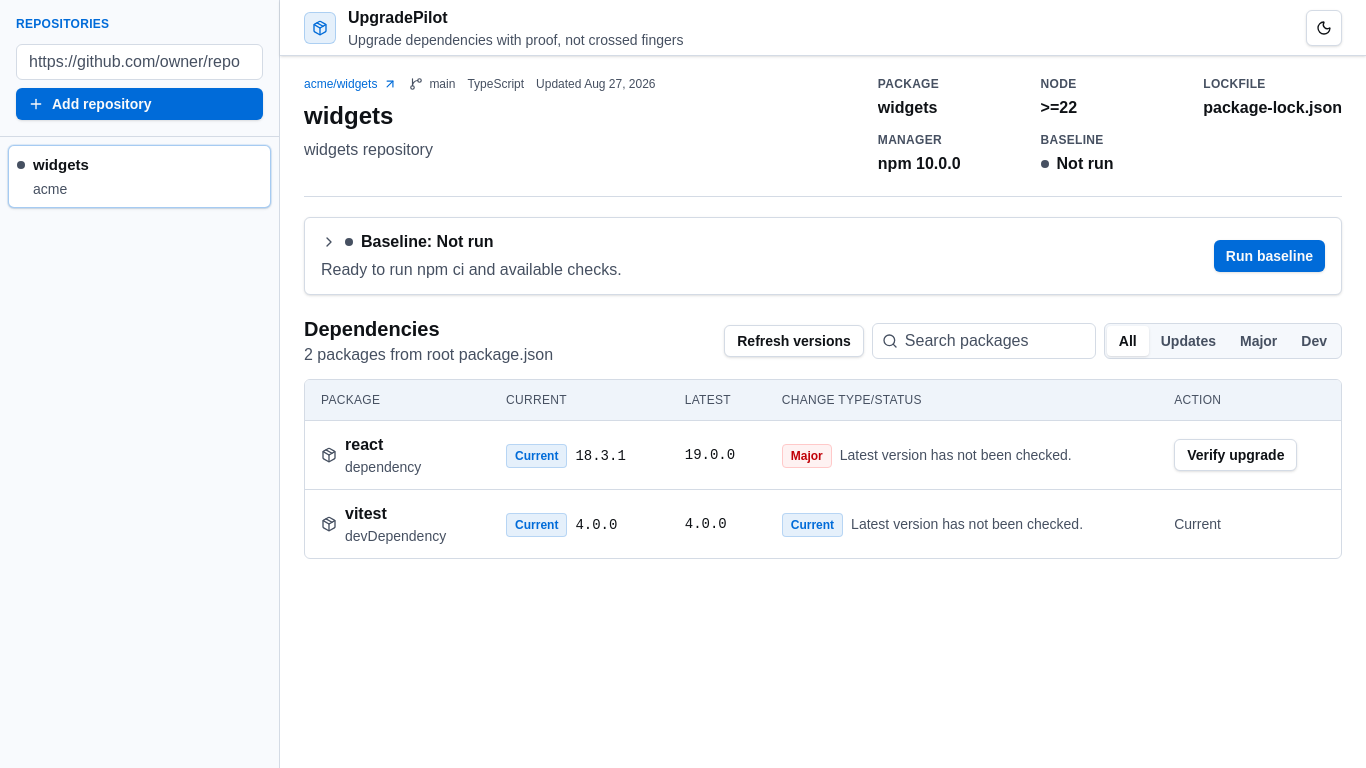
Test: RepositoryWorkspace › keeps Verify Upgrade on the repository page when baseline fails
Expected: the heading "widgets" is shown, [304,102,393,129]
Step 1. Click the button "Verify upgrade" → {"x": 1236, "y": 455}, box [1174,439,1298,471]
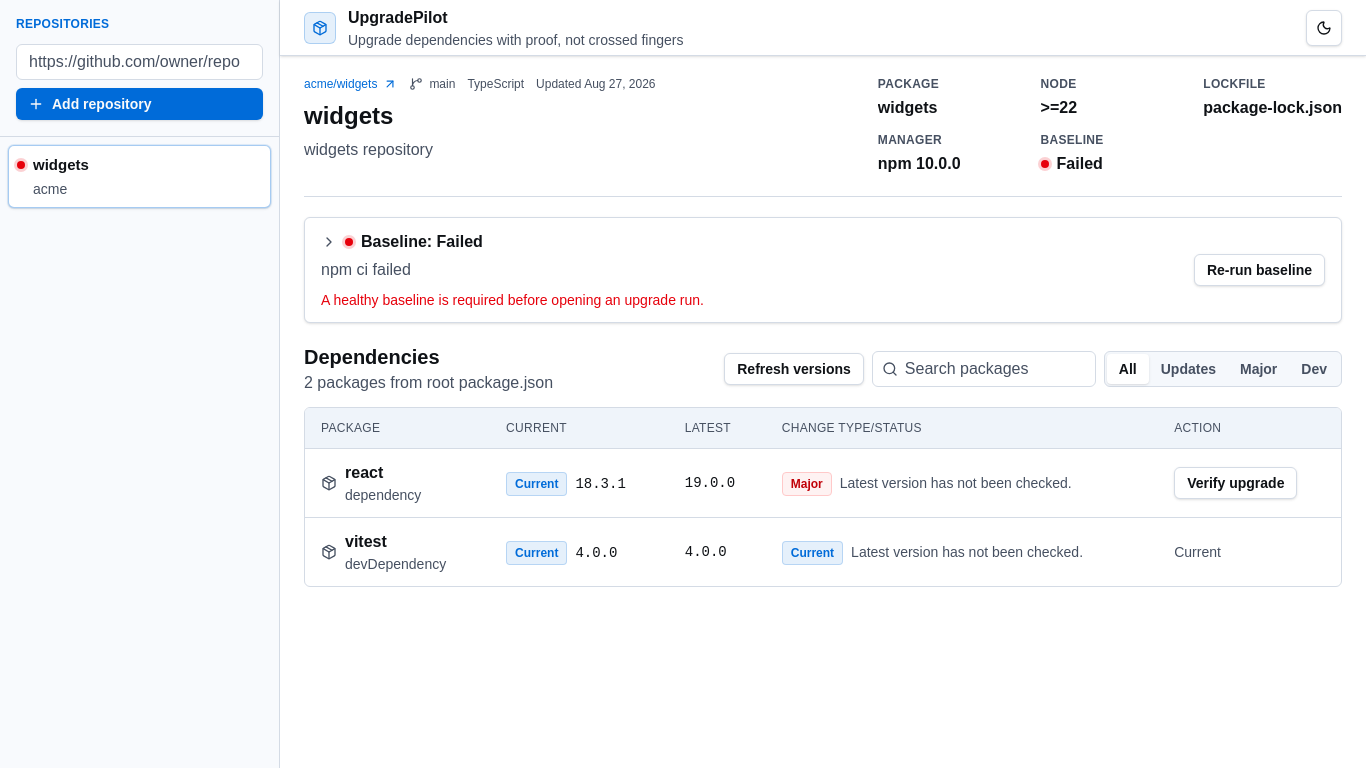
Result: the text "Baseline: Failed" is shown at [361,230,483,254]
Result: the text "A healthy baseline is required before opening an upgrade run." is shown at [321,290,704,310]
